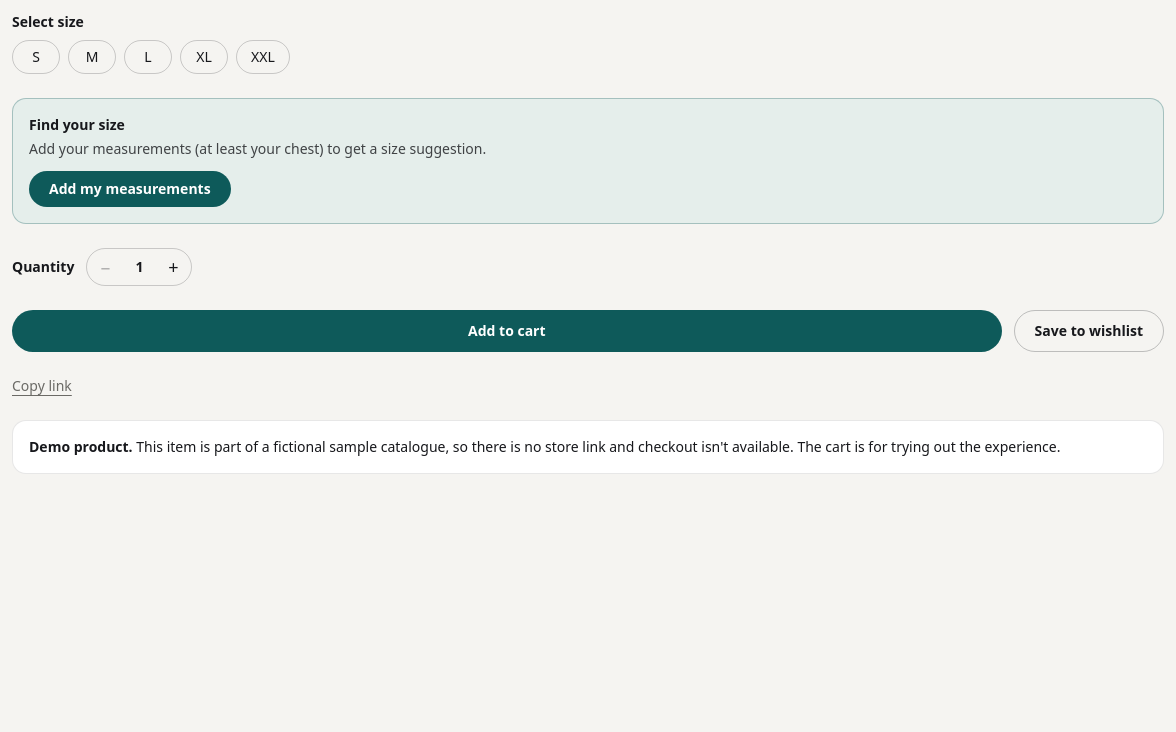
Test: product detail: size, quantity, add to cart › refuses to add without a size and says why
This screenshot has width=1176, height=732.
Click the button "Add to cart" at (507, 331), box [12,310,1002,352]
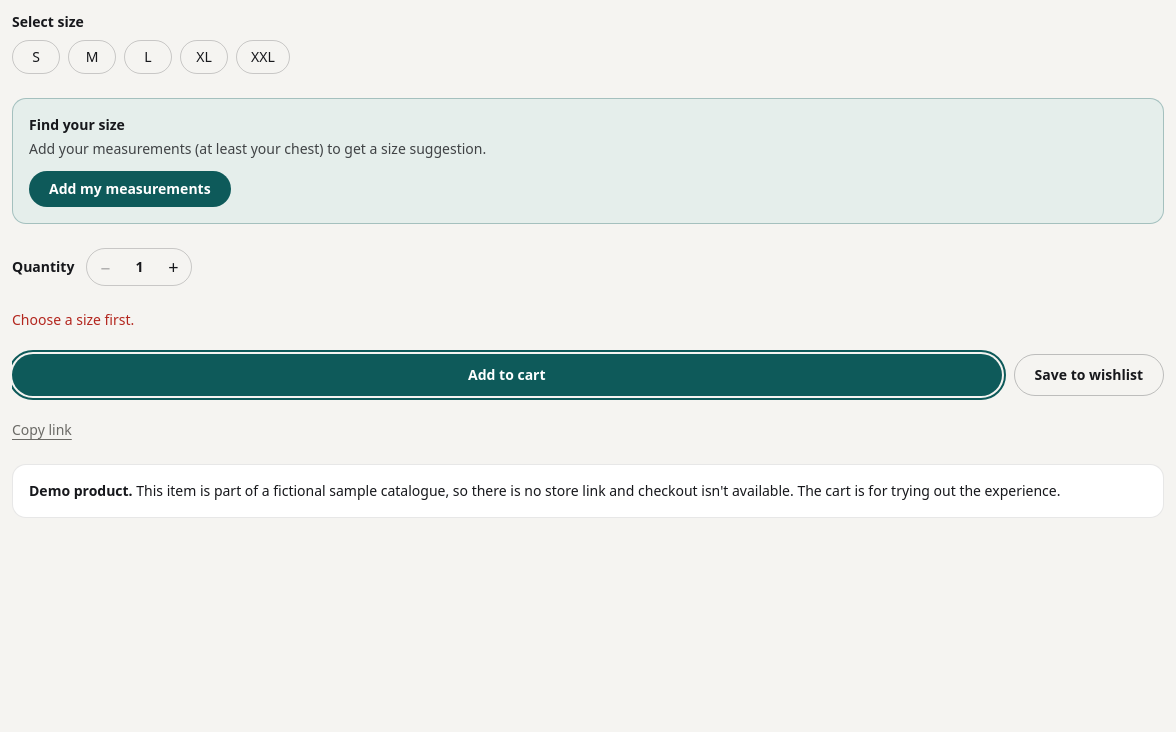
Expected: the message reads "Choose a size first.", [12,310,134,329]
